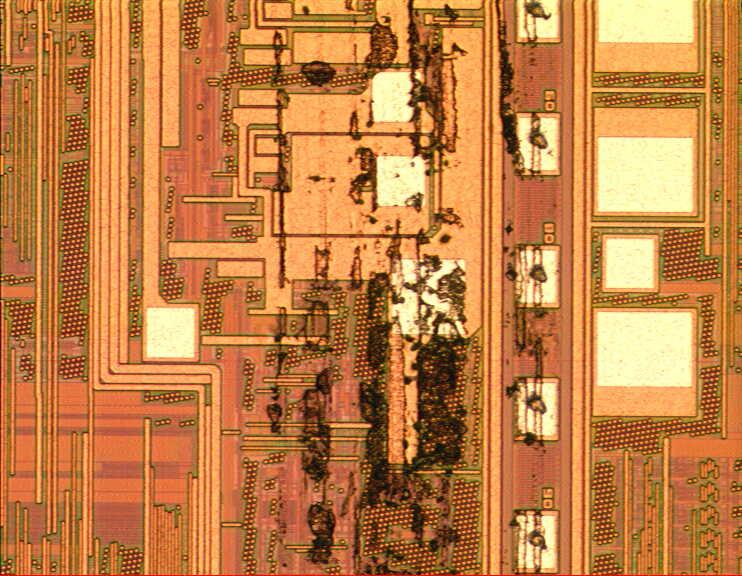SCRATCH: (260, 1, 560, 576)
